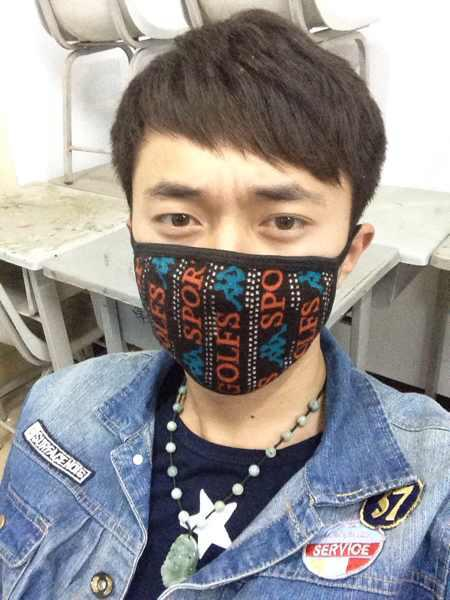OK: (136, 164, 342, 390)
